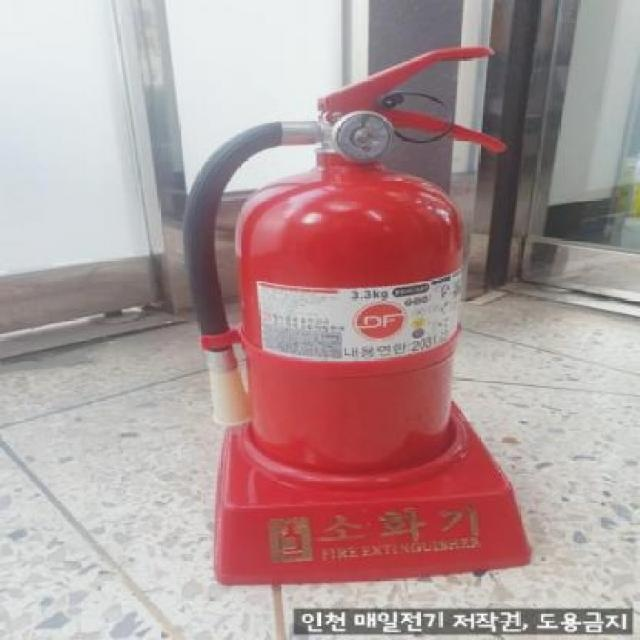fire extinguisher: (181, 45, 508, 473)
